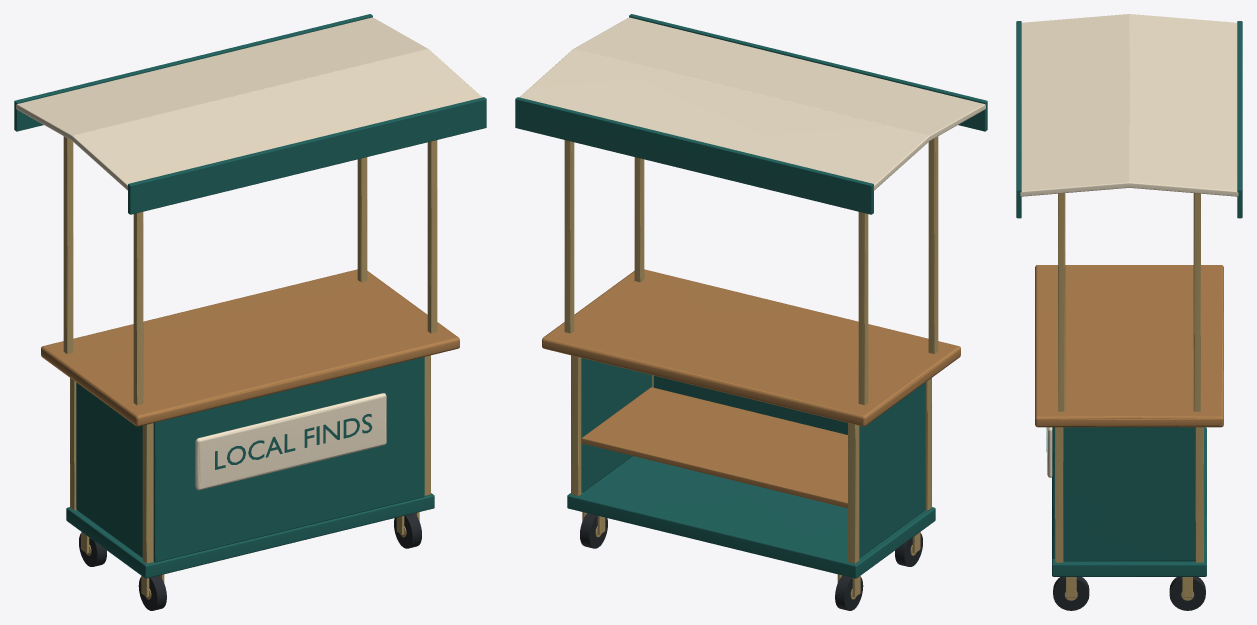
3 renders of one model, left to right at view 1: azimuth 30°, elevation 25°; view 2: azimuth 150°, elevation 25°; view 3: azimuth 270°, elevation 25°, orthographic. The views are drawn at different scales.
Visible parts, largest first — view 1: Canopy, Counter, FrontPanel, SignPanel, Frame, SidePanels, CanopyPosts, SignText, WheelFL, WheelFR, WheelRL; view 2: Canopy, Counter, Frame, Shelf, SidePanels, CanopyPosts, FrontPanel, WheelRL, WheelRR, WheelFL; view 3: Canopy, Counter, SidePanels, Frame, CanopyPosts, WheelFR, WheelRR, FrontPanel.
Boxes of the visible parts, x1=… form: Canopy: x1=14, y1=14, x2=486, y2=214; Counter: x1=41, y1=269, x2=459, y2=426; FrontPanel: x1=153, y1=357, x2=424, y2=562; SignPanel: x1=195, y1=393, x2=386, y2=490; Frame: x1=66, y1=355, x2=434, y2=578; SidePanels: x1=76, y1=382, x2=142, y2=557; CanopyPosts: x1=63, y1=136, x2=437, y2=405; SignText: x1=215, y1=414, x2=372, y2=469; WheelFL: x1=138, y1=574, x2=166, y2=610; WheelFR: x1=394, y1=512, x2=421, y2=548; WheelRL: x1=79, y1=532, x2=106, y2=566; Canopy: x1=515, y1=14, x2=987, y2=214; Counter: x1=542, y1=269, x2=960, y2=426; Frame: x1=567, y1=355, x2=935, y2=578; Shelf: x1=581, y1=387, x2=847, y2=508; SidePanels: x1=581, y1=358, x2=925, y2=557; CanopyPosts: x1=564, y1=136, x2=938, y2=405; FrontPanel: x1=653, y1=375, x2=847, y2=434; WheelRL: x1=835, y1=574, x2=863, y2=610; WheelRR: x1=580, y1=512, x2=607, y2=548; WheelFL: x1=895, y1=532, x2=922, y2=566; Canopy: x1=1016, y1=14, x2=1242, y2=218; Counter: x1=1035, y1=265, x2=1223, y2=427; SidePanels: x1=1063, y1=427, x2=1195, y2=561; Frame: x1=1052, y1=427, x2=1206, y2=576; CanopyPosts: x1=1058, y1=193, x2=1200, y2=411; WheelFR: x1=1053, y1=577, x2=1089, y2=610; WheelRR: x1=1169, y1=577, x2=1205, y2=610; FrontPanel: x1=1052, y1=427, x2=1054, y2=558.
Size of the model in its own units: 1.65 by 2.05 by 0.932.
